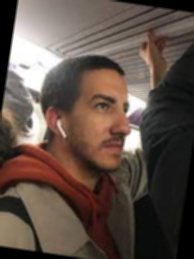earphone: (40, 106, 71, 141)
